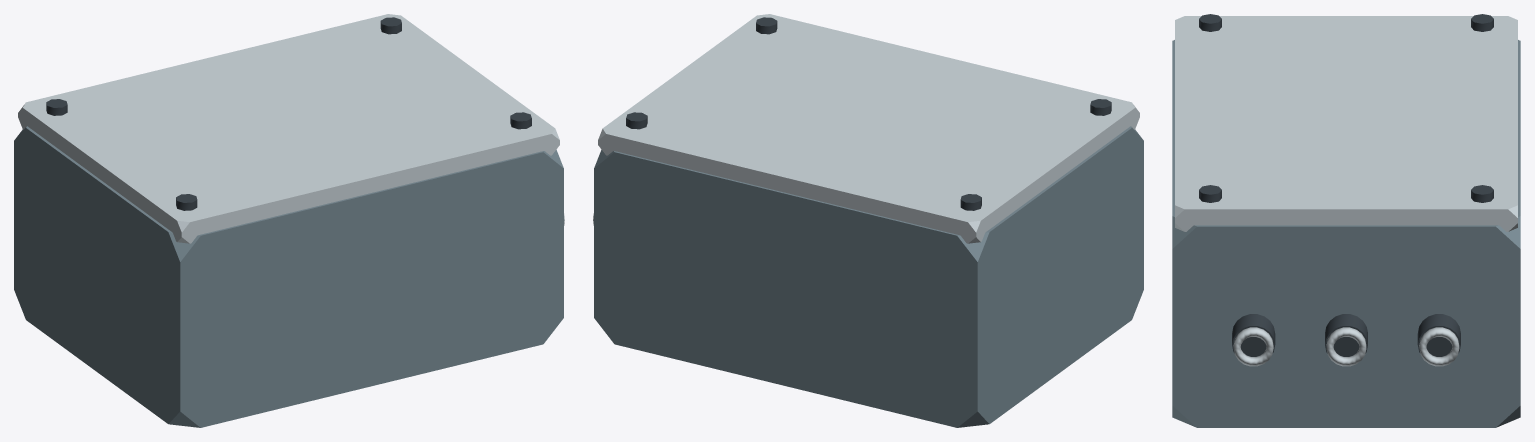
Rendered from compute-enclosure-concept.glb.
3 views of the same model, side by side, from view 1: azimuth 30°, elevation 25°; view 2: azimuth 150°, elevation 25°; view 3: azimuth 270°, elevation 25° (orthographic). The views are drawn at different scales.
Parts seen in each view (by area): view 1: compute_case_concept, compute_lid_concept; view 2: compute_case_concept, compute_lid_concept; view 3: compute_lid_concept, compute_case_concept, compute_ports_concept.
Boxes of the visible parts, x1,y1,x2,y2 form: compute_case_concept: (14,126,563,427); compute_lid_concept: (18,14,559,243); compute_case_concept: (594,126,1143,427); compute_lid_concept: (598,14,1139,243); compute_lid_concept: (1175,14,1517,231); compute_case_concept: (1172,40,1520,427); compute_ports_concept: (1232,314,1460,366).
Bounding box in the file's own units: 0.302 × 0.15 × 0.21.
